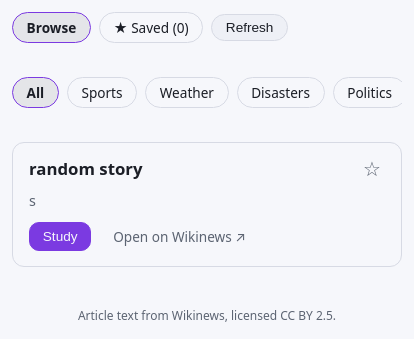
MediaView — topics › picking a topic draws from that topic, in the corpus being browsed
Expected: the heading "random story" is shown, x1=29 y1=157 x2=142 y2=180
Click the button "Sports": (102, 92) x1=67 y1=77 x2=137 y2=108
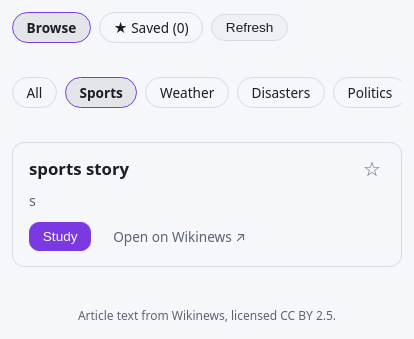
Expected: the heading "sports story" is shown, x1=29 y1=157 x2=129 y2=180
Expected: the heading "random story" is gone
